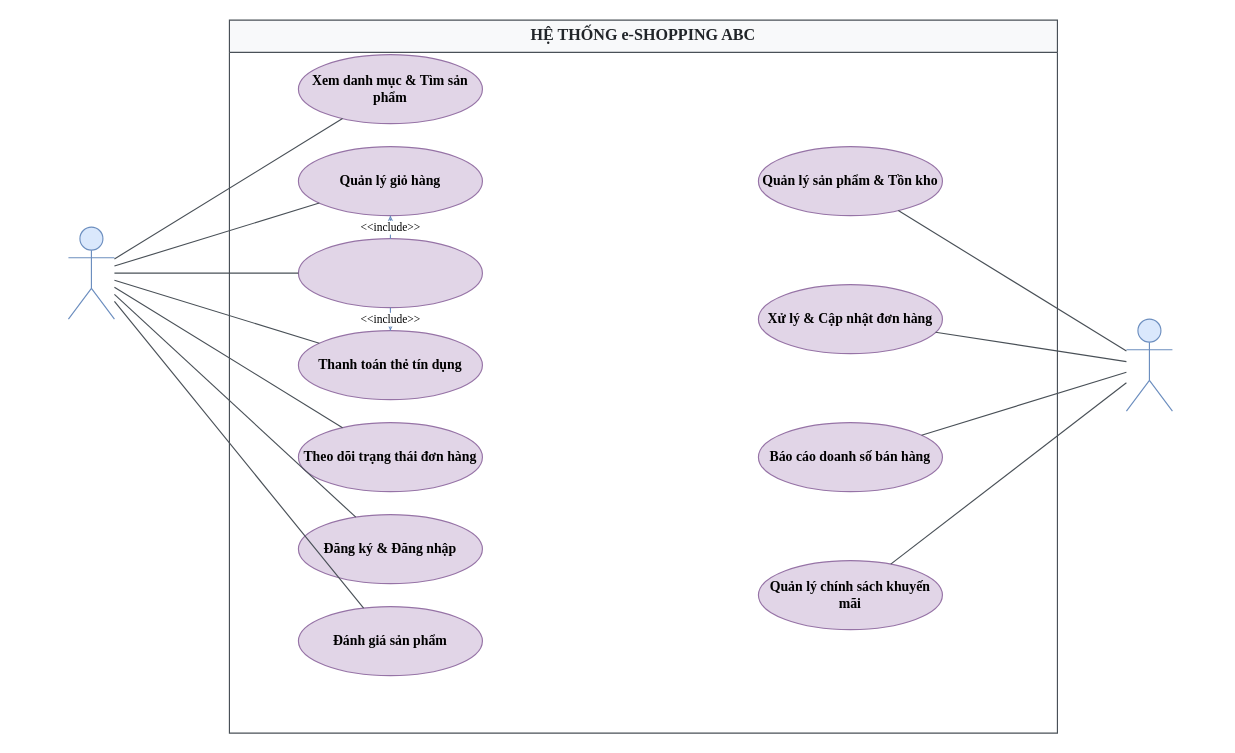
The diagram is 1235 pixels wide and 753 high, and some of its shapes have lost their labels. The centre of each missing label's shape, as x and y in pixels:
Khách hàng (Customer): [90,272]
Quản trị viên (Admin): [1148,364]
Đặt hàng & Checkout: [389,272]
